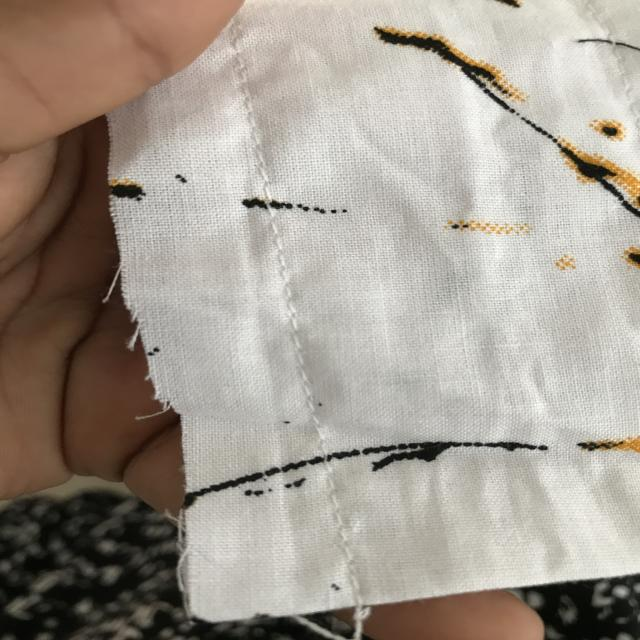good: (261, 307, 331, 412)
